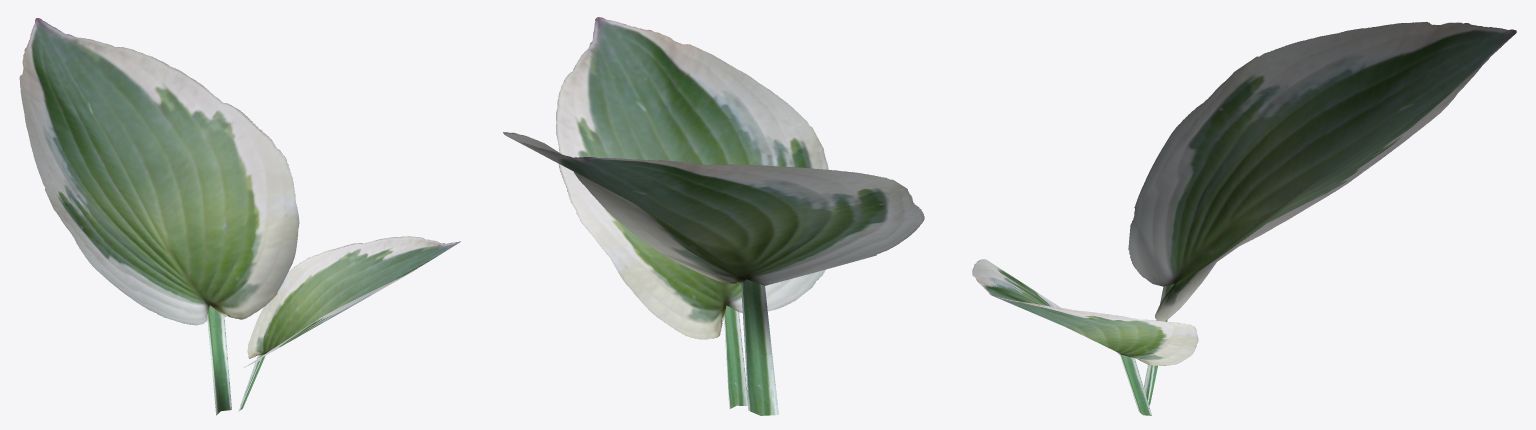
File: plant_small_wg_04G.fbx
The picture shows the model from 3 angles, left to right: view 1: azimuth 30°, elevation 25°; view 2: azimuth 150°, elevation 25°; view 3: azimuth 270°, elevation 25°; orthographic projection. The views are drawn at different scales.
Parts seen in each view (by area): view 1: plant_small_wg_04G; view 2: plant_small_wg_04G; view 3: plant_small_wg_04G.
Part boxes in pixels (x1,y1,x2,y2): plant_small_wg_04G: (19,18,460,415); plant_small_wg_04G: (503,17,924,415); plant_small_wg_04G: (972,22,1516,415).
Bounding box in the file's own units: 37.14 × 33.24 × 46.84.
